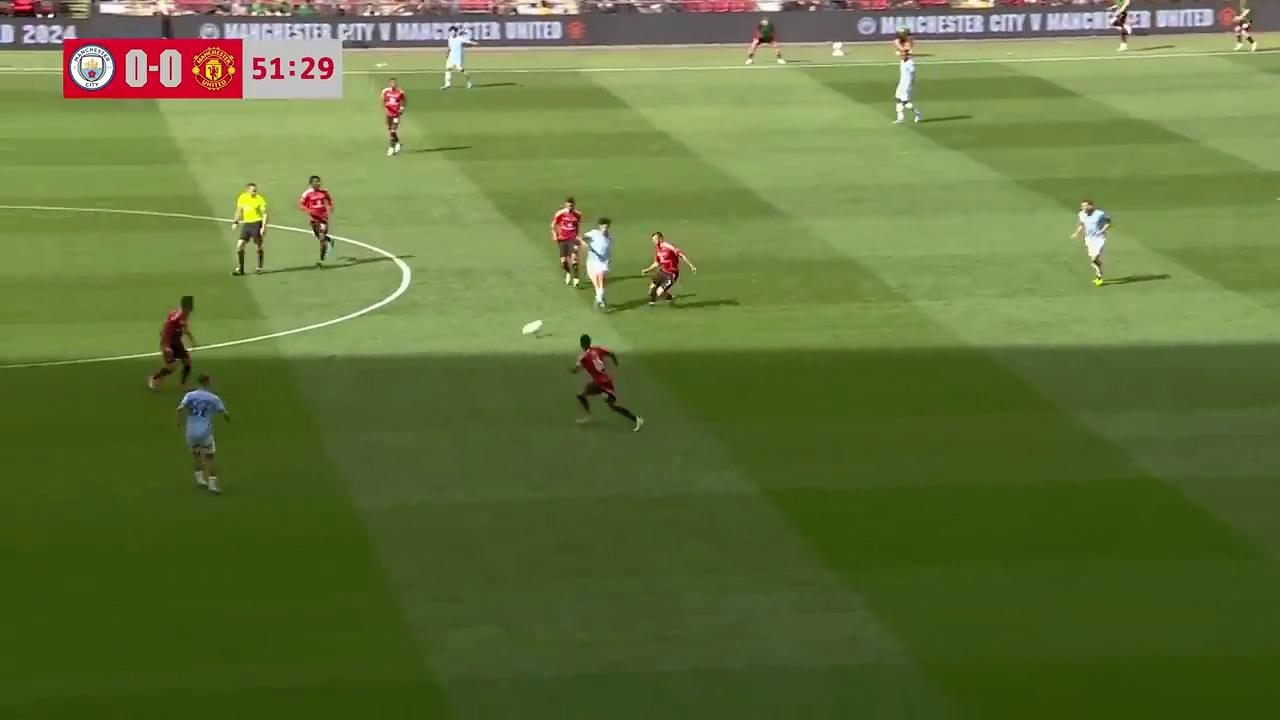ball: (520, 318, 544, 337)
player: (174, 371, 231, 493), (572, 333, 644, 429), (147, 295, 195, 393), (642, 231, 696, 306), (1070, 198, 1111, 287), (297, 174, 334, 266), (550, 197, 583, 285), (583, 218, 614, 309), (892, 50, 922, 125), (440, 29, 473, 90), (380, 78, 405, 156)
referee: (231, 181, 268, 275)
